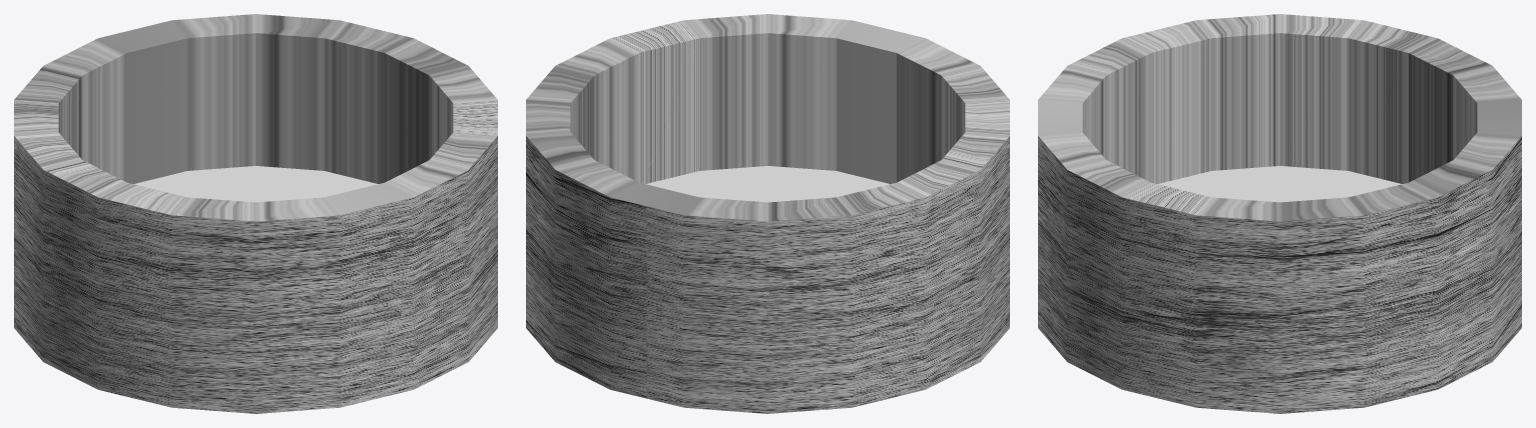
Rendered from hole 1.fbx.
The picture shows the model from 3 angles, left to right: view 1: azimuth 30°, elevation 25°; view 2: azimuth 150°, elevation 25°; view 3: azimuth 270°, elevation 25°; orthographic projection.
Visible parts, largest first — view 1: Cylinder001, Cylinder002; view 2: Cylinder001, Cylinder002; view 3: Cylinder001, Cylinder002.
Boxes of the visible parts, x1,y1,x2,y2 form: Cylinder001: [14, 14, 497, 413]; Cylinder002: [133, 166, 378, 202]; Cylinder001: [526, 14, 1009, 413]; Cylinder002: [645, 166, 890, 202]; Cylinder001: [1038, 14, 1521, 413]; Cylinder002: [1157, 166, 1402, 202].
Size of the model in its own units: 150 by 64.86 by 148.
1 material, 1 textured.
